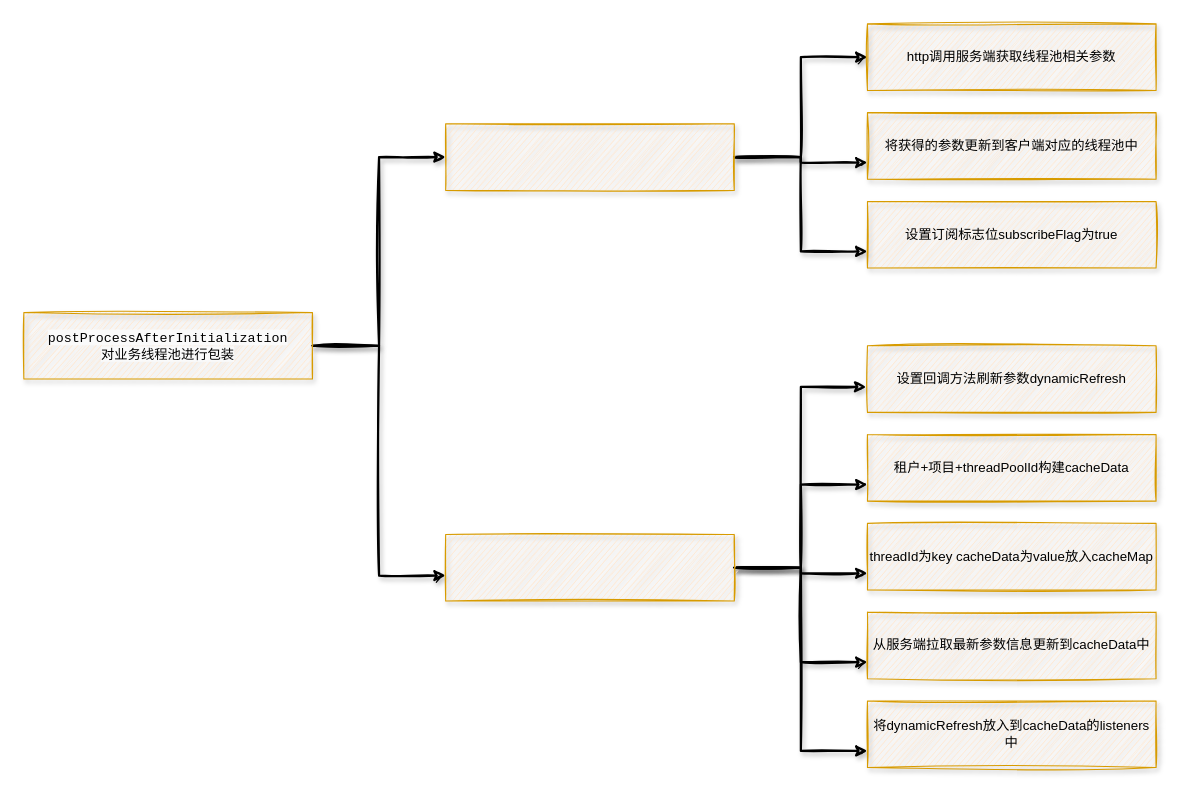
Some shapes in this 1182 by 795 pixel diagram are drawn without their labels. Each missing label, with the centre of its shape:
fillPoolAndRegister 向服务端进行注册: pixel 590 158
subscribeConfig 进行订阅: pixel 590 569
